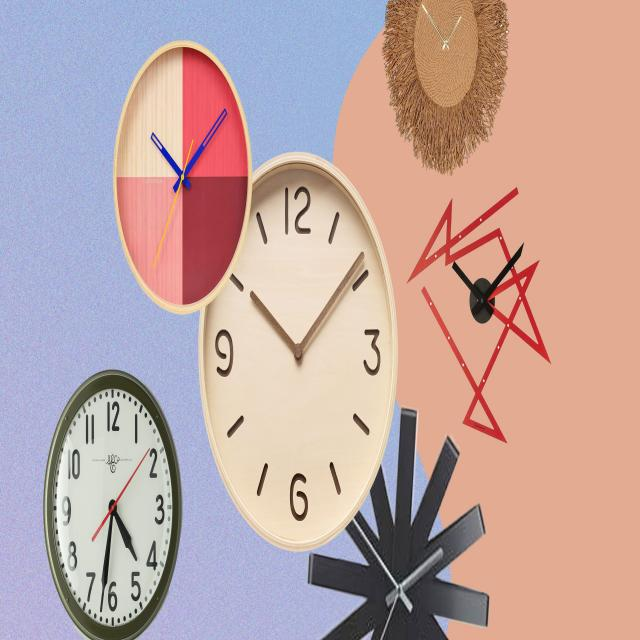clock: (82, 14, 404, 582)
